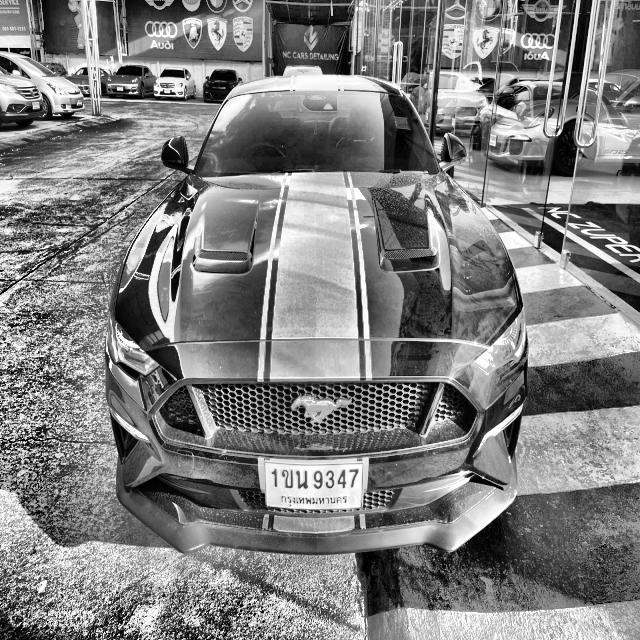license-plate: (262, 456, 365, 514), (32, 100, 42, 111), (74, 98, 83, 106)
